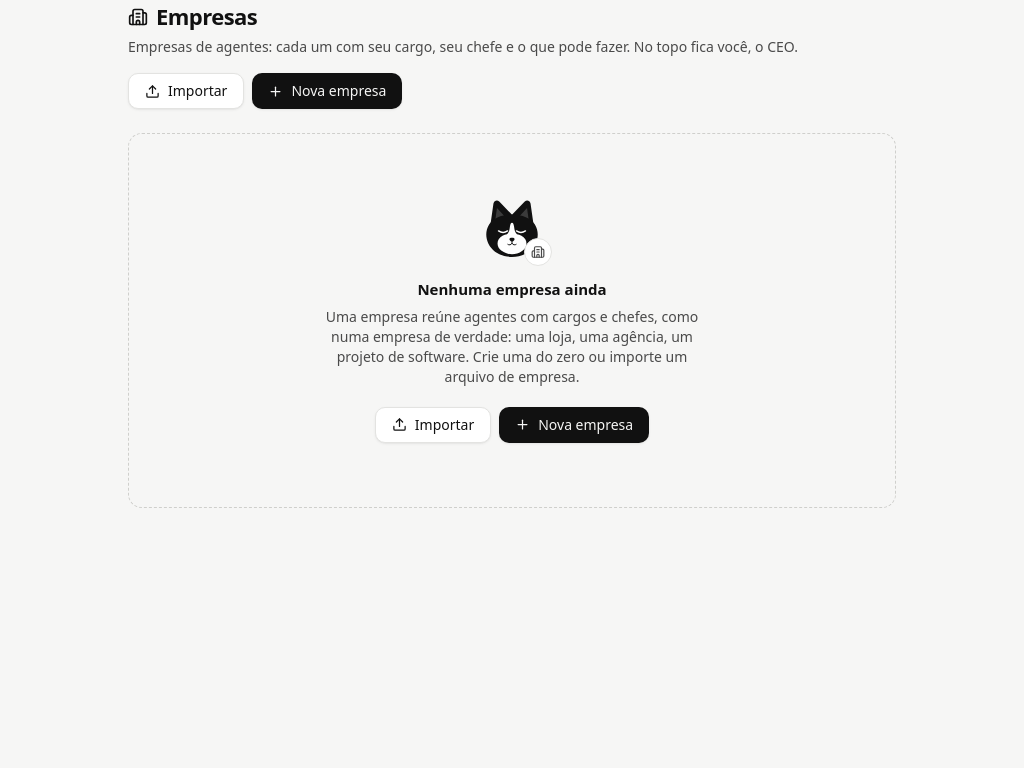
Companies › creates a company and opens it
The width and height of the screenshot is (1024, 768).
Click the 1st button "Nova empresa": (327, 91) [252, 73, 402, 109]
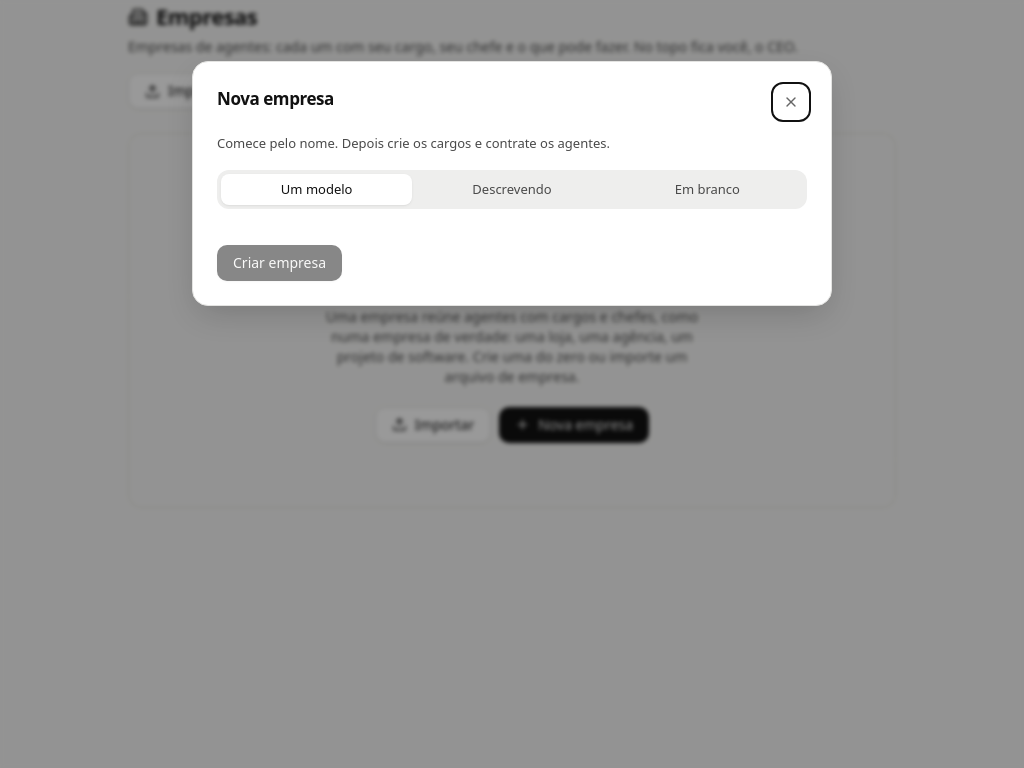
Click the button "Em branco": (707, 190) [612, 174, 803, 205]
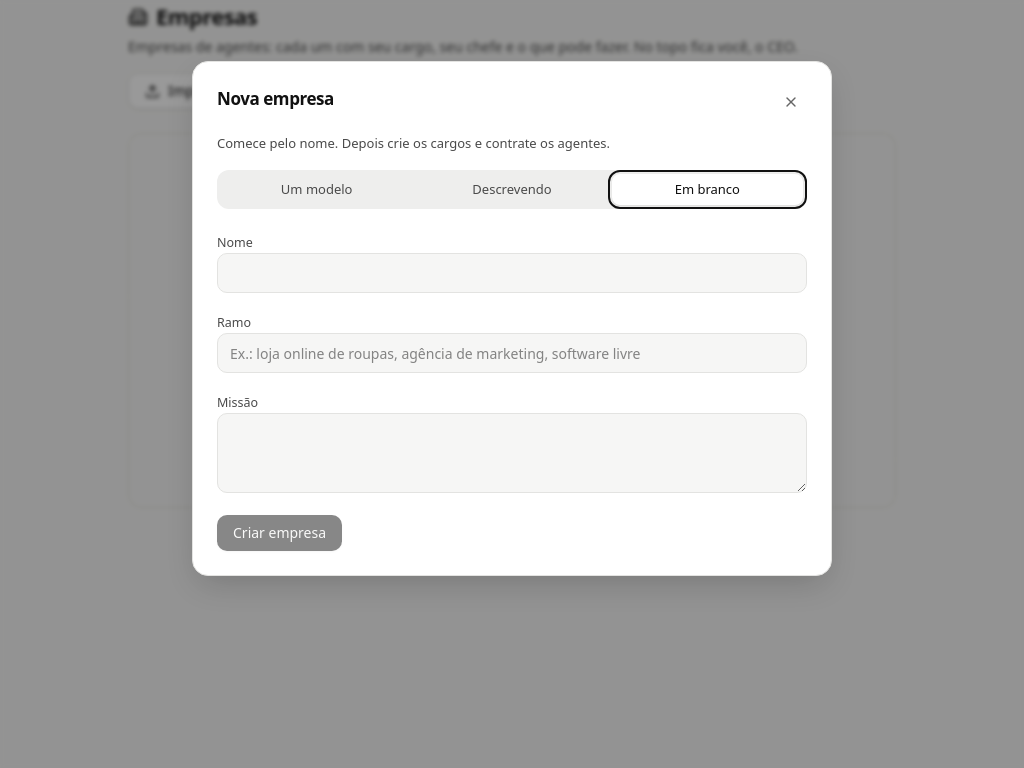
In the field labelled "Nome": (512, 273) [217, 253, 807, 293], type "Lume Moda"
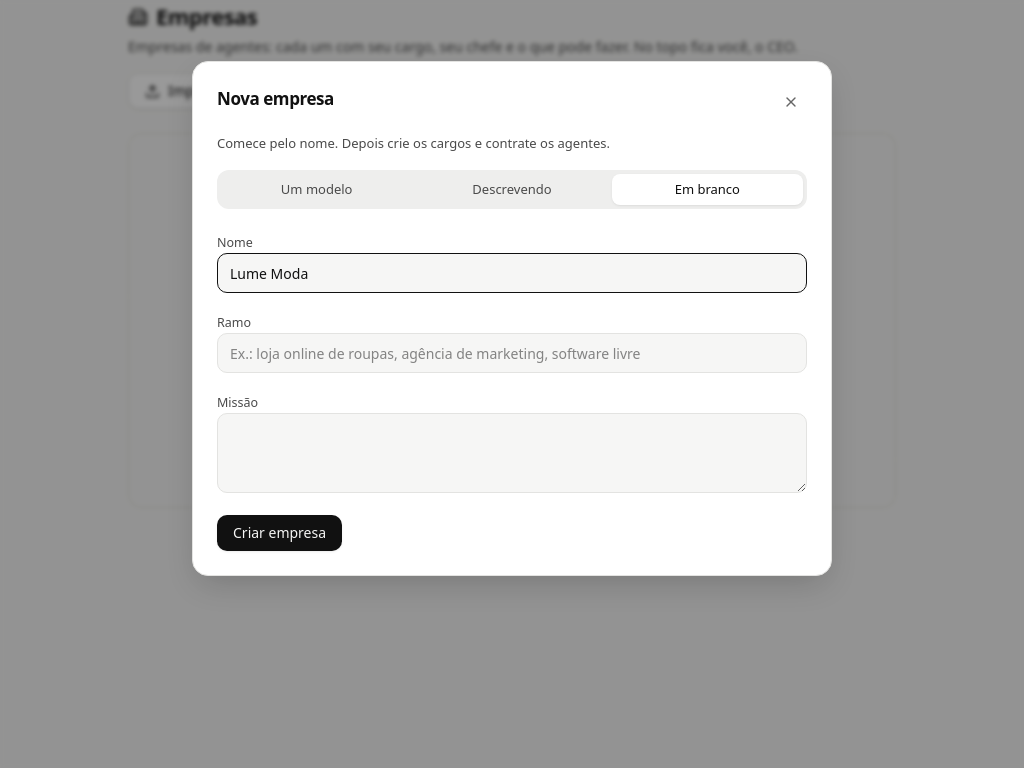
In the field labelled "Ramo": (512, 353) [217, 333, 807, 373], type "Loja online"
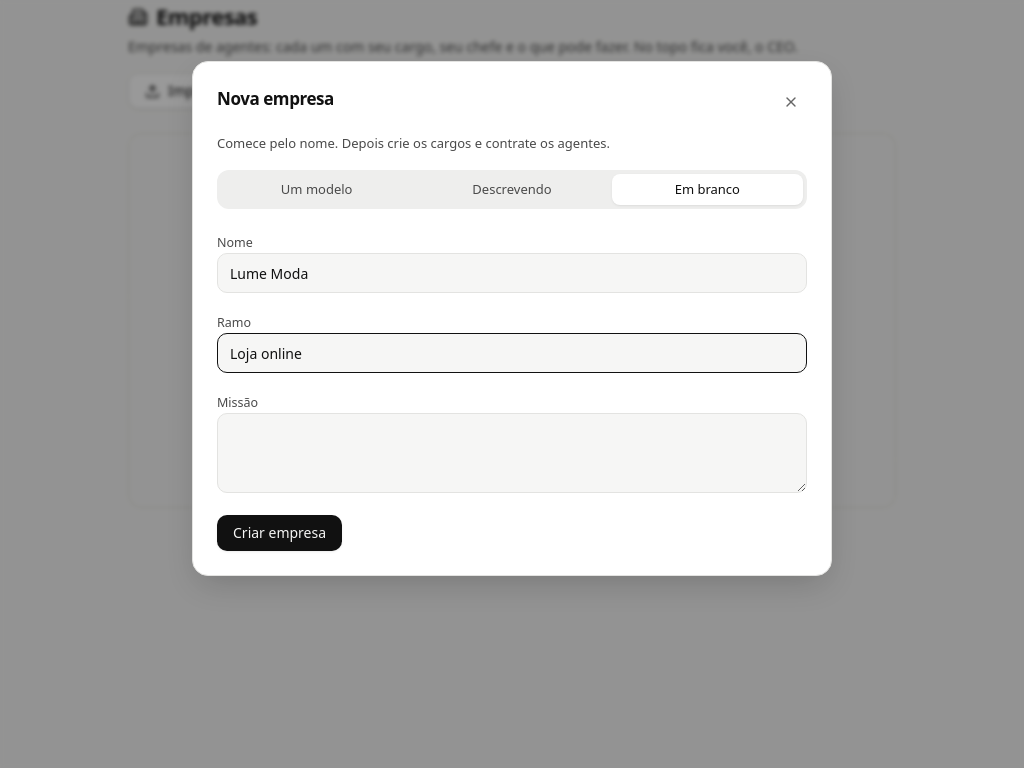
Click the button "Criar empresa": (280, 533) [217, 515, 342, 551]
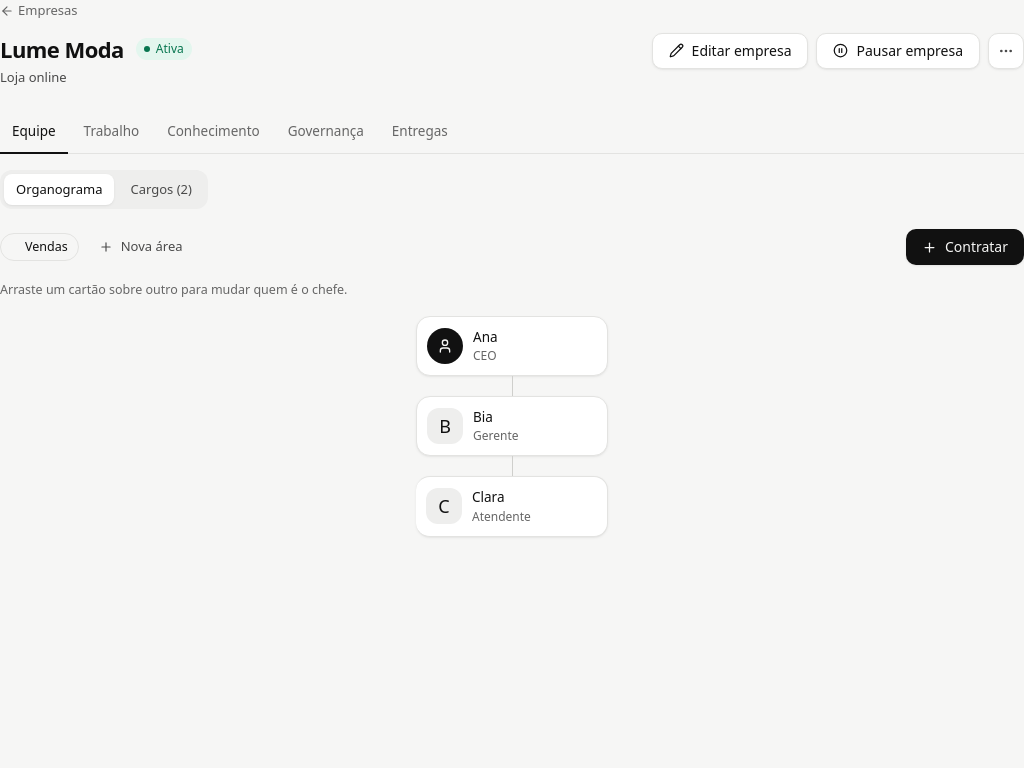
Result: the heading "Lume Moda" is shown at [0, 33, 124, 66]
